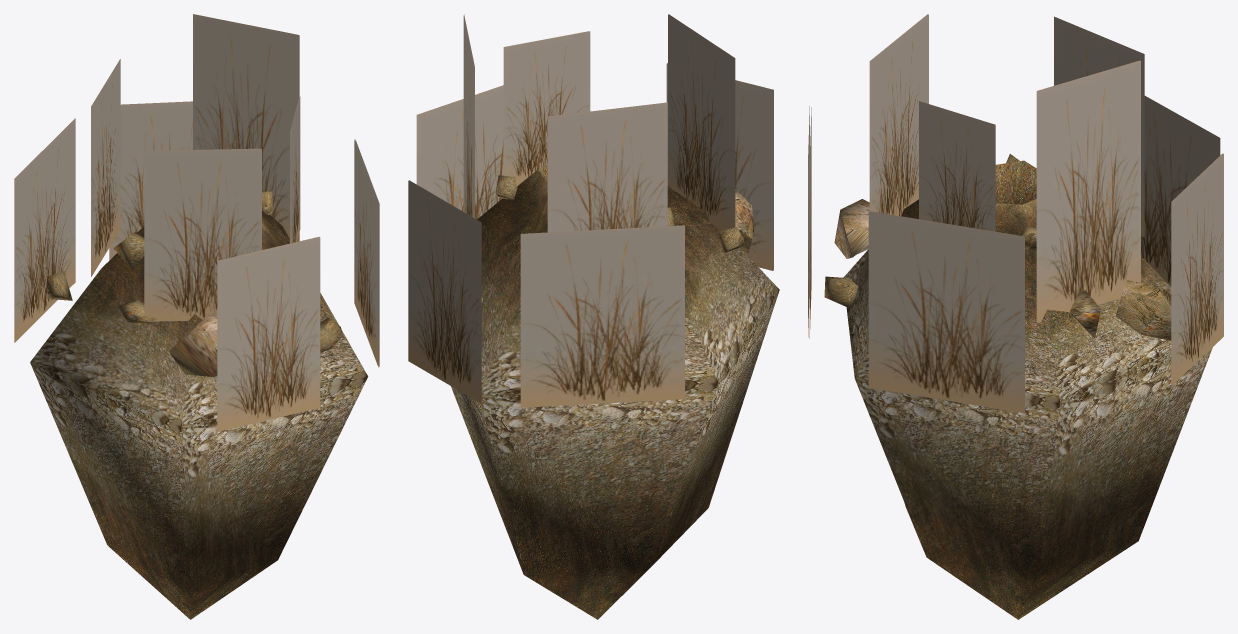
Rendered from poi_all_lair_antpile_dark_l2.fbx.
The picture shows the model from 3 angles, left to right: view 1: azimuth 30°, elevation 25°; view 2: azimuth 150°, elevation 25°; view 3: azimuth 270°, elevation 25°; orthographic projection. The views are drawn at different scales.
Parts seen in each view (by area): view 1: mesh_node; view 2: mesh_node; view 3: mesh_node.
Part boxes in pixels (box(x1,y1,x2,y2)): mesh_node: box(14, 14, 379, 619); mesh_node: box(408, 14, 779, 619); mesh_node: box(808, 14, 1223, 619).
Bounding box in the file's own units: 4.25 × 7.32 × 4.67.
